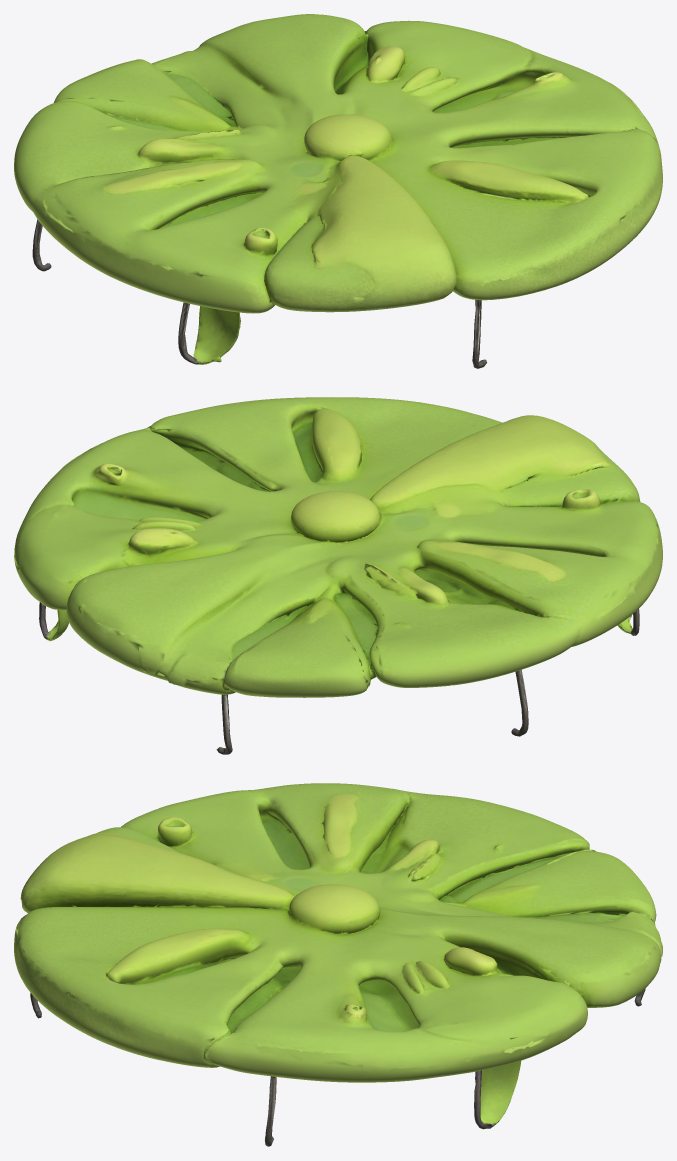
Rendered from env_nest_lilypad_01.glb.
The picture shows the model from 3 angles, top to bottom: view 1: azimuth 30°, elevation 25°; view 2: azimuth 150°, elevation 25°; view 3: azimuth 270°, elevation 25°; orthographic projection.
Visible parts, largest first — view 1: tripo_node_de55f925-a303-4261-995c-d1b87e851dcc; view 2: tripo_node_de55f925-a303-4261-995c-d1b87e851dcc; view 3: tripo_node_de55f925-a303-4261-995c-d1b87e851dcc.
Part boxes in pixels (x1,y1,x2,y2): tripo_node_de55f925-a303-4261-995c-d1b87e851dcc: (14, 14, 662, 368); tripo_node_de55f925-a303-4261-995c-d1b87e851dcc: (14, 397, 662, 754); tripo_node_de55f925-a303-4261-995c-d1b87e851dcc: (14, 783, 662, 1146).
Bounding box in the file's own units: 0.9741 × 0.2278 × 0.9798.
Materials: 1 (1 with a texture image).
